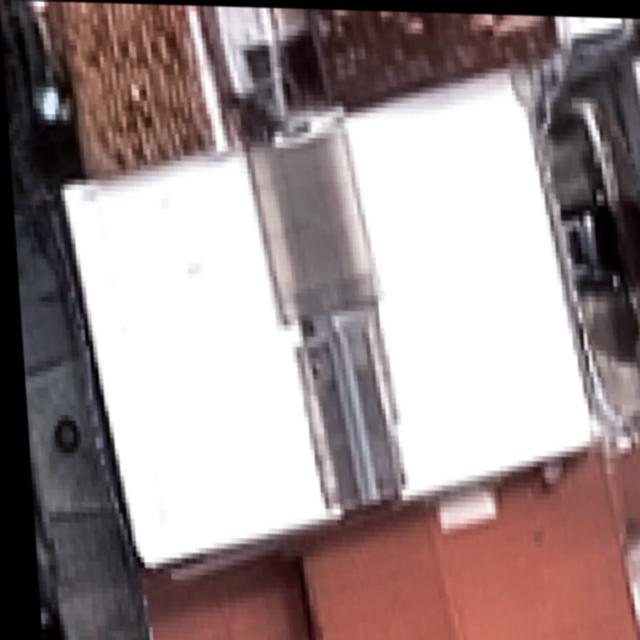Batiment: (135, 442, 640, 640), (48, 1, 211, 176)
